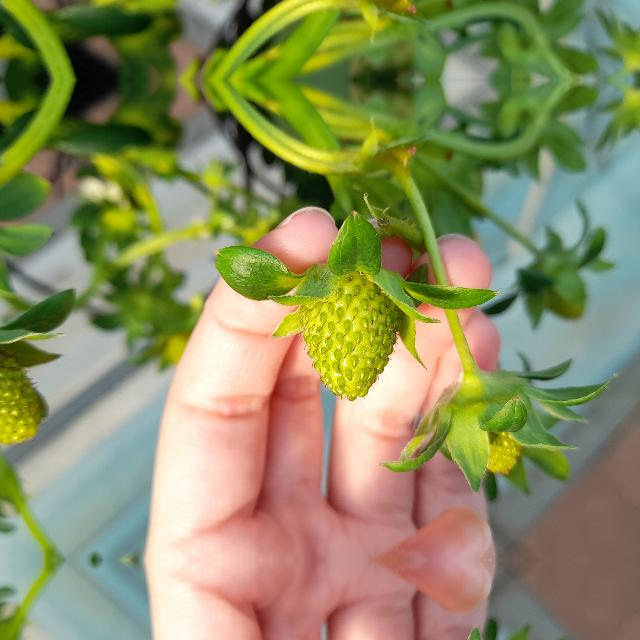Health_25: (299, 270, 403, 402), (426, 371, 542, 475)
